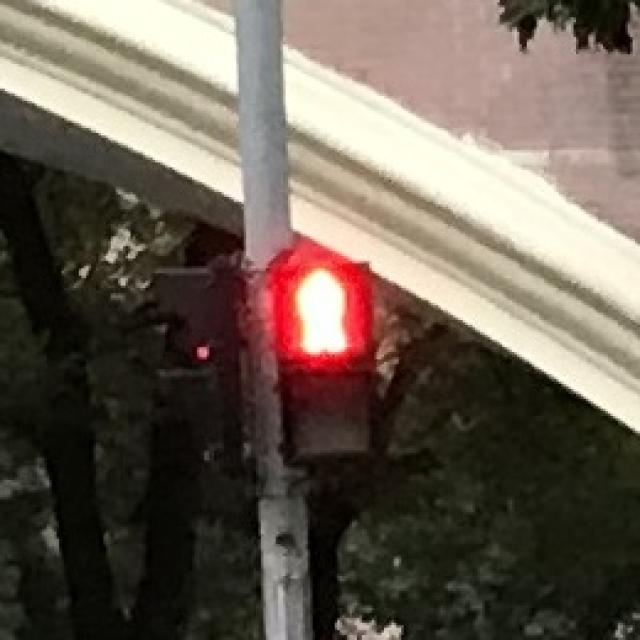red_light: (273, 263, 367, 362)
